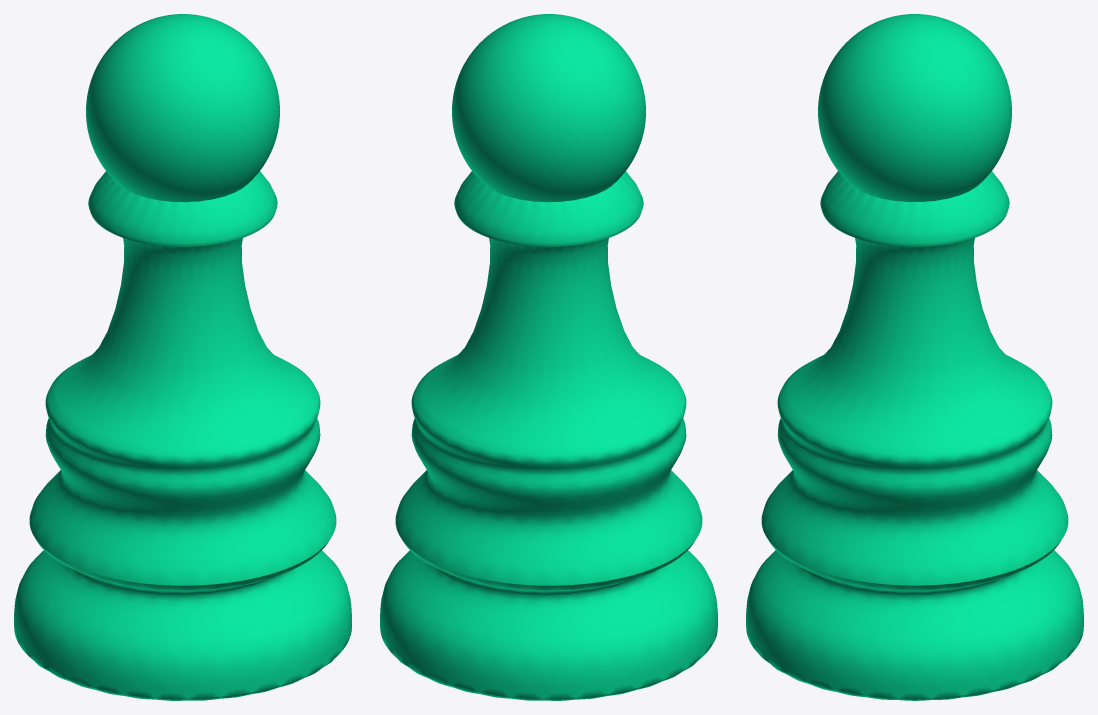
The model's file is red_pawn.glb.
3 views of the same model, side by side, from view 1: azimuth 30°, elevation 25°; view 2: azimuth 150°, elevation 25°; view 3: azimuth 270°, elevation 25° (orthographic).
Parts seen in each view (by area): view 1: Object_2; view 2: Object_2; view 3: Object_2.
Boxes of the visible parts, left/top/right/bottom form: Object_2: left=14, top=14, right=351, bottom=700; Object_2: left=380, top=14, right=717, bottom=700; Object_2: left=746, top=14, right=1083, bottom=700.
Bounding box in the file's own units: 0.7867 × 1.58 × 0.7867.
